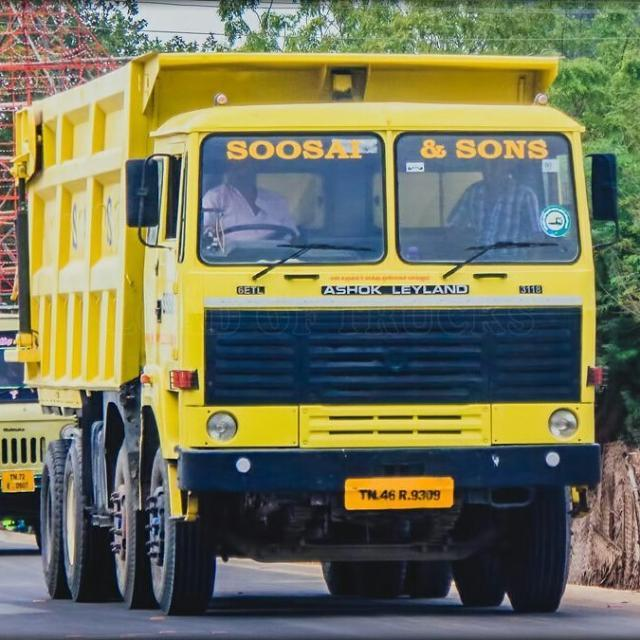Truck: (11, 48, 614, 619)
